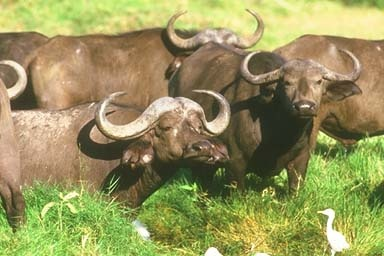buffalo: (165, 40, 363, 208), (9, 89, 231, 237), (21, 9, 267, 116)
